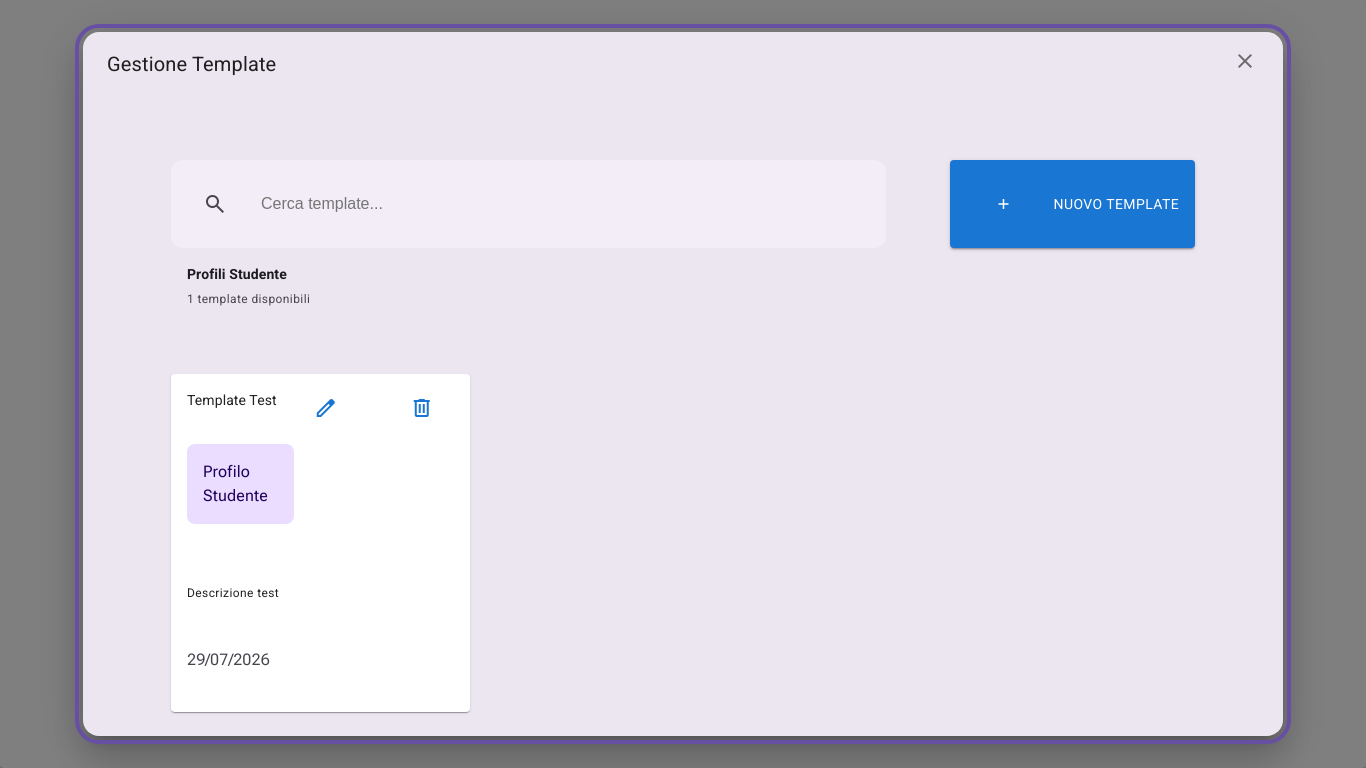
Test: TemplateManager › mostra la lista dei template e permette di entrare in modalità edit
Expected: the heading "Template Test" is shown, [187,392,277,408]
# Clicca su modifica
Click the button titled "Modifica template Template Test".
click(326, 408)  # box [294,390,358,426]
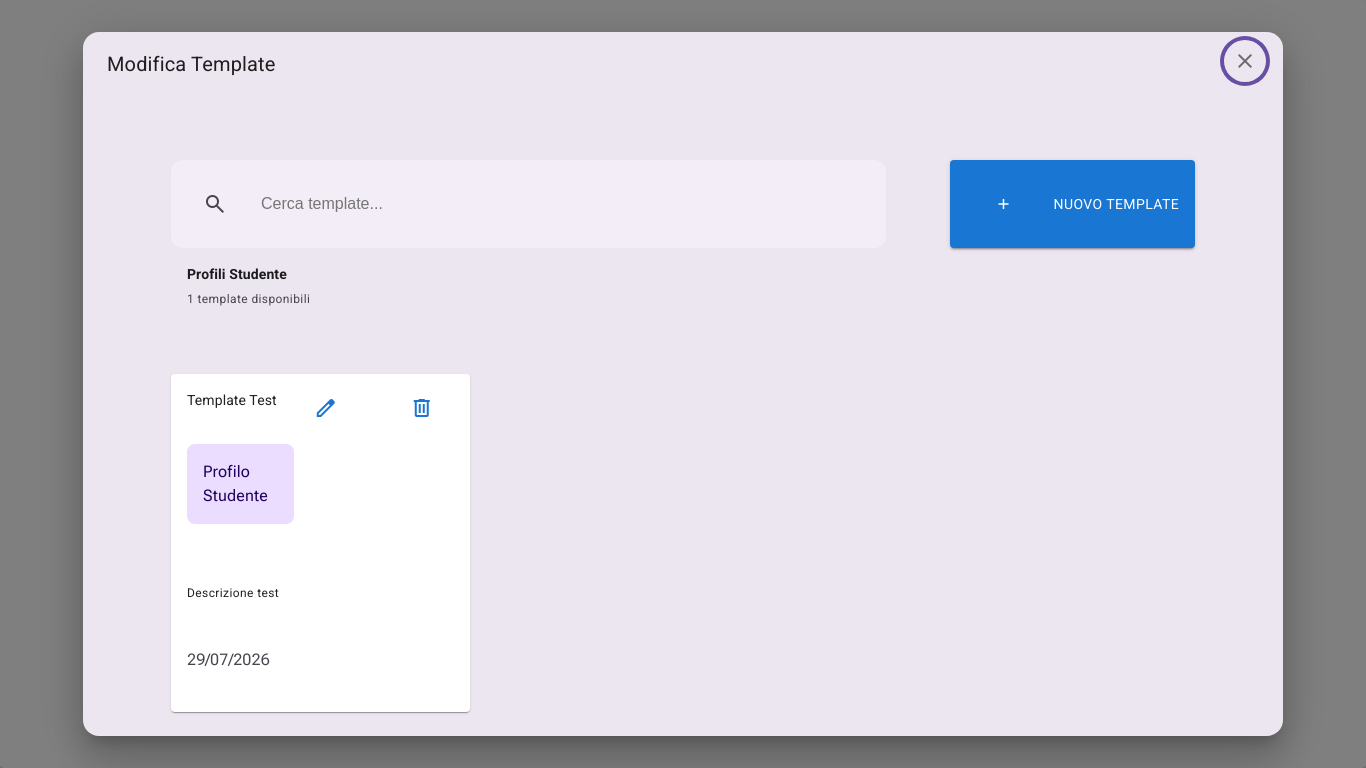
Now the text "Modifica Template" is shown, box [107,52,276,76]
